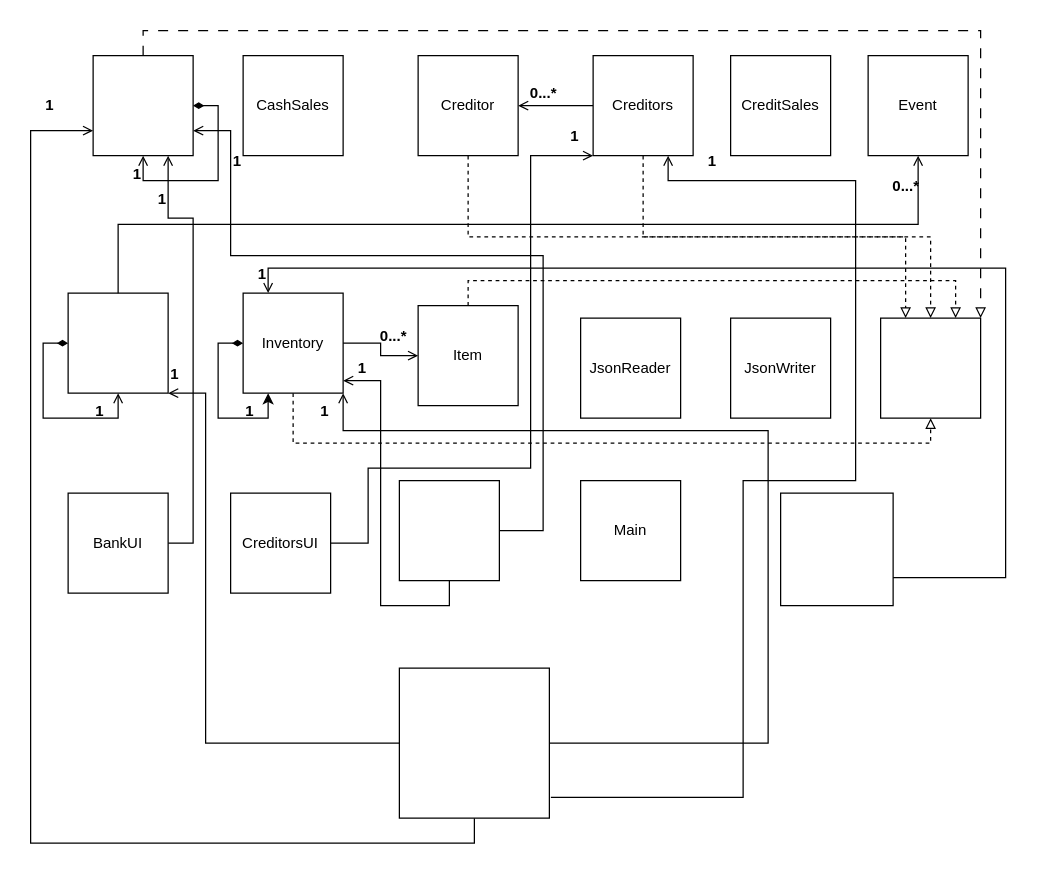
The diagram is 1038 pixels wide and 875 high, and some of its shapes have lost their labels. Here are the shapes that lost their labels. From the top down, the centre of each, then its label:
the point at 142,105: Bank
the point at 117,342: Eventlog
the point at 930,367: <interface> Writable
the point at 448,530: InventoryUI
the point at 836,549: TransactionUI
the point at 473,742: ShopManagement
